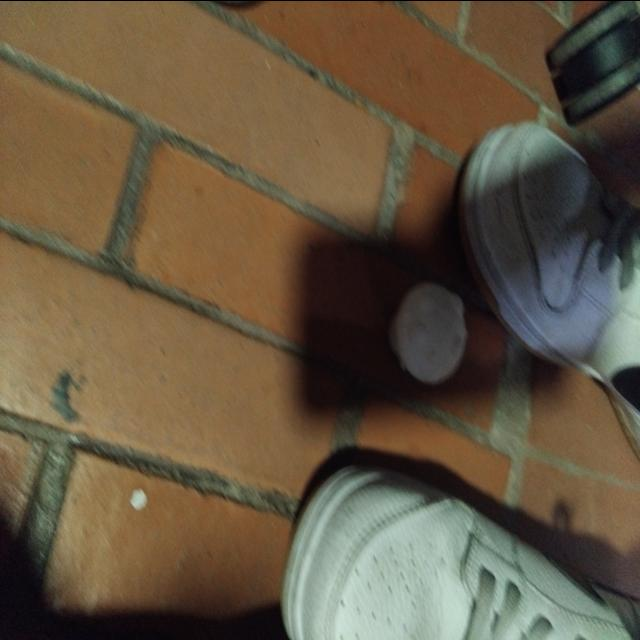Hongo: (383, 270, 475, 391)
